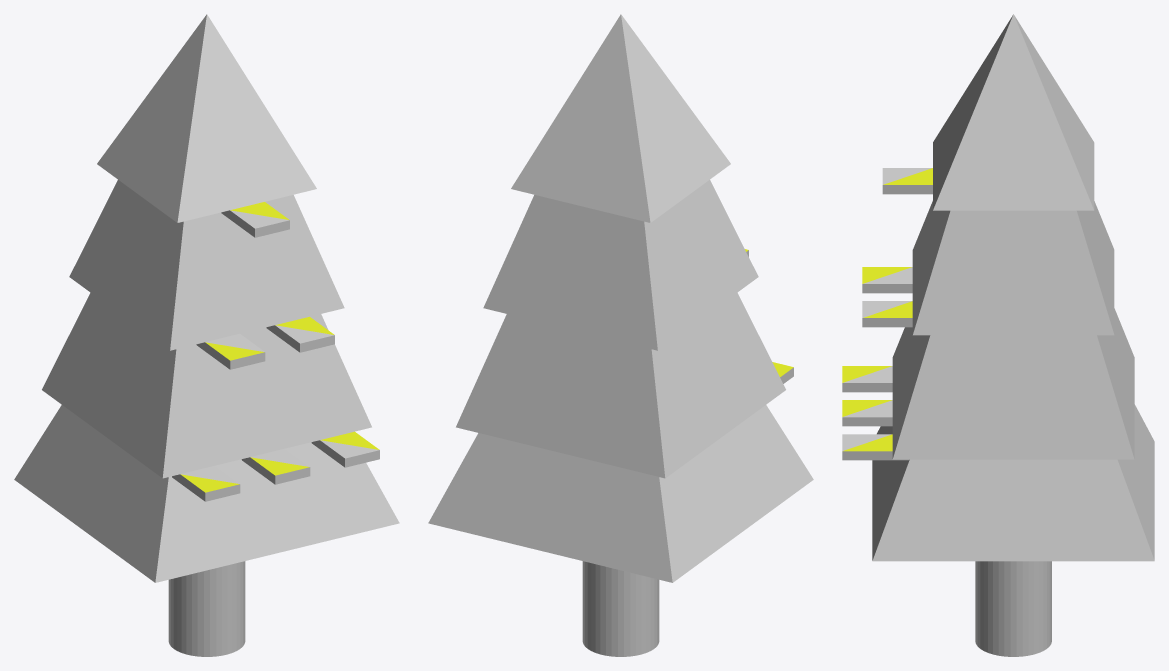
File: tree_model.dae
3 views of the same model, side by side, from view 1: azimuth 30°, elevation 25°; view 2: azimuth 150°, elevation 25°; view 3: azimuth 270°, elevation 25° (orthographic).
Parts seen in each view (by area): view 1: tree_model_v5; view 2: tree_model_v5; view 3: tree_model_v5.
Part boxes in pixels (bbox=[...]): tree_model_v5: bbox=[14, 14, 399, 656]; tree_model_v5: bbox=[428, 14, 813, 656]; tree_model_v5: bbox=[842, 14, 1154, 656].
Size of the model in its own units: 140 by 155 by 344.
